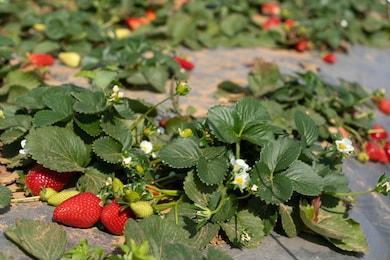Fresa: (50, 188, 105, 232), (101, 197, 133, 237)
